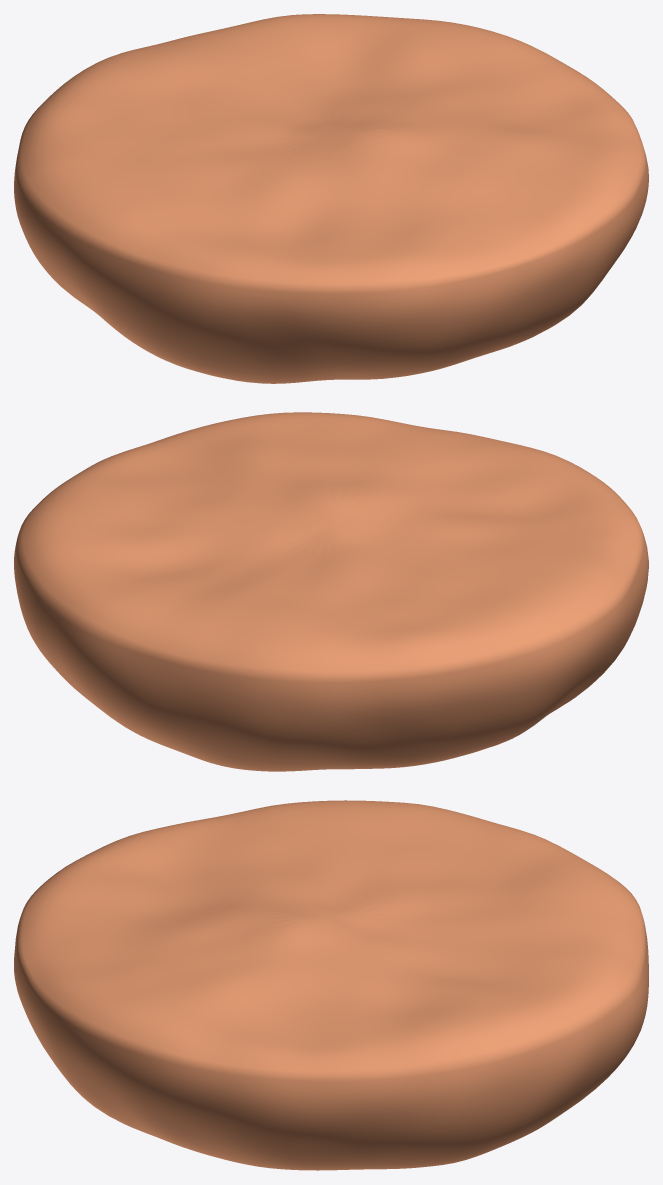
Rendered from BunBottom.fbx.
3 renders of one model, top to bottom at view 1: azimuth 30°, elevation 25°; view 2: azimuth 150°, elevation 25°; view 3: azimuth 270°, elevation 25°, orthographic. The views are drawn at different scales.
Visible parts, largest first — view 1: HamburgerBunBot; view 2: HamburgerBunBot; view 3: HamburgerBunBot.
Part boxes in pixels (left/top/right/bottom): HamburgerBunBot: left=14, top=14, right=648, bottom=383; HamburgerBunBot: left=14, top=412, right=648, bottom=771; HamburgerBunBot: left=14, top=800, right=648, bottom=1170.
Size of the model in its own units: 10.84 by 3.41 by 10.65.
